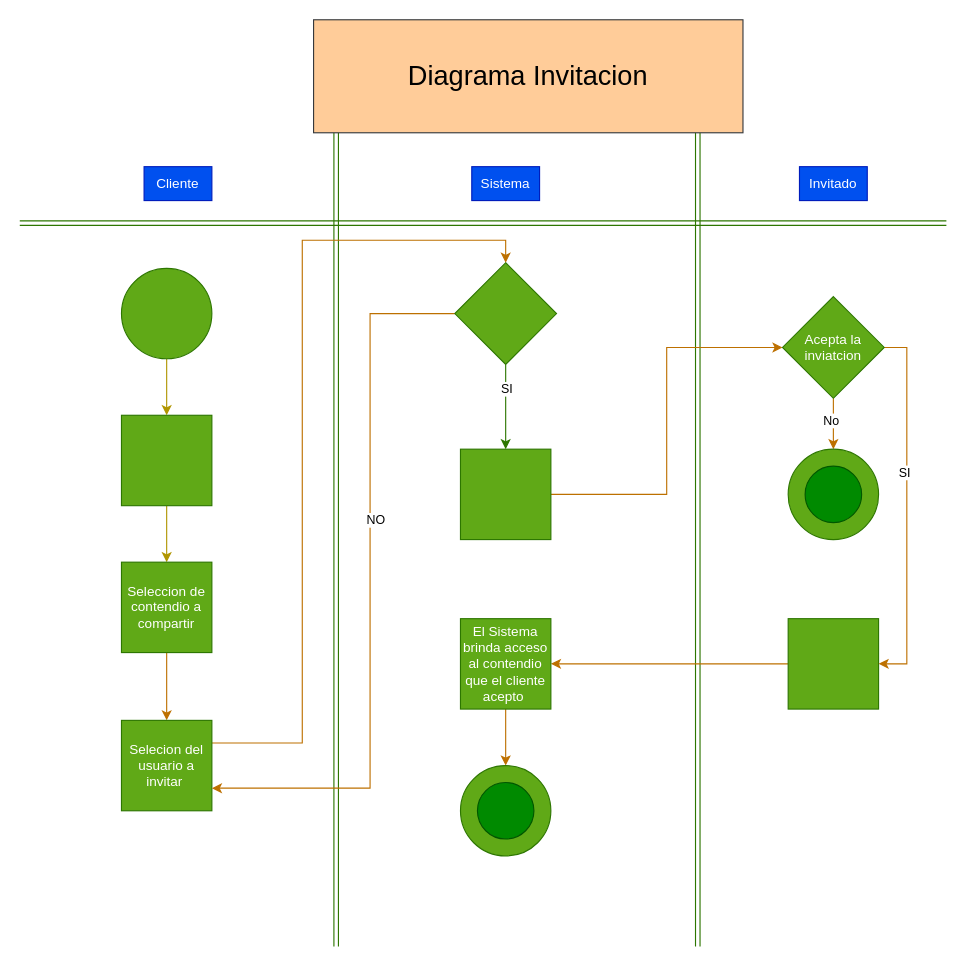
Some shapes in this 966 by 966 pixel diagram are drawn without their labels. The shapes that lost their labels are listed below. From the top down, each one's centre as x and y in pixels, then its label:
At point 505,313: "El usuario existe".
At point 166,460: "Ingreso al sistema".
At point 505,494: "Envio de la invitacion al usuario".
At point 833,663: "Ingresa al sistema".
